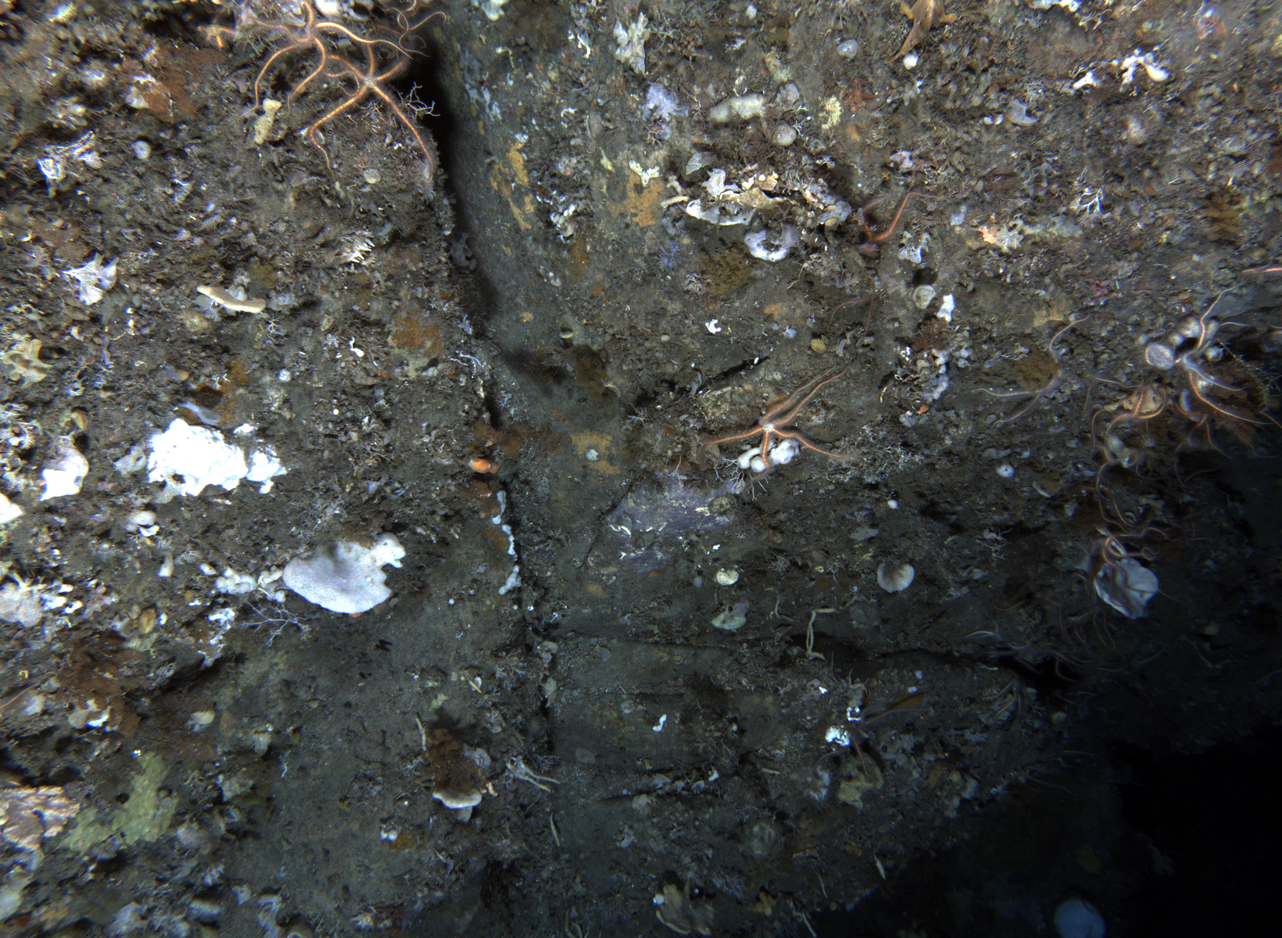Brachionichthyidae: (882, 0, 958, 66)
